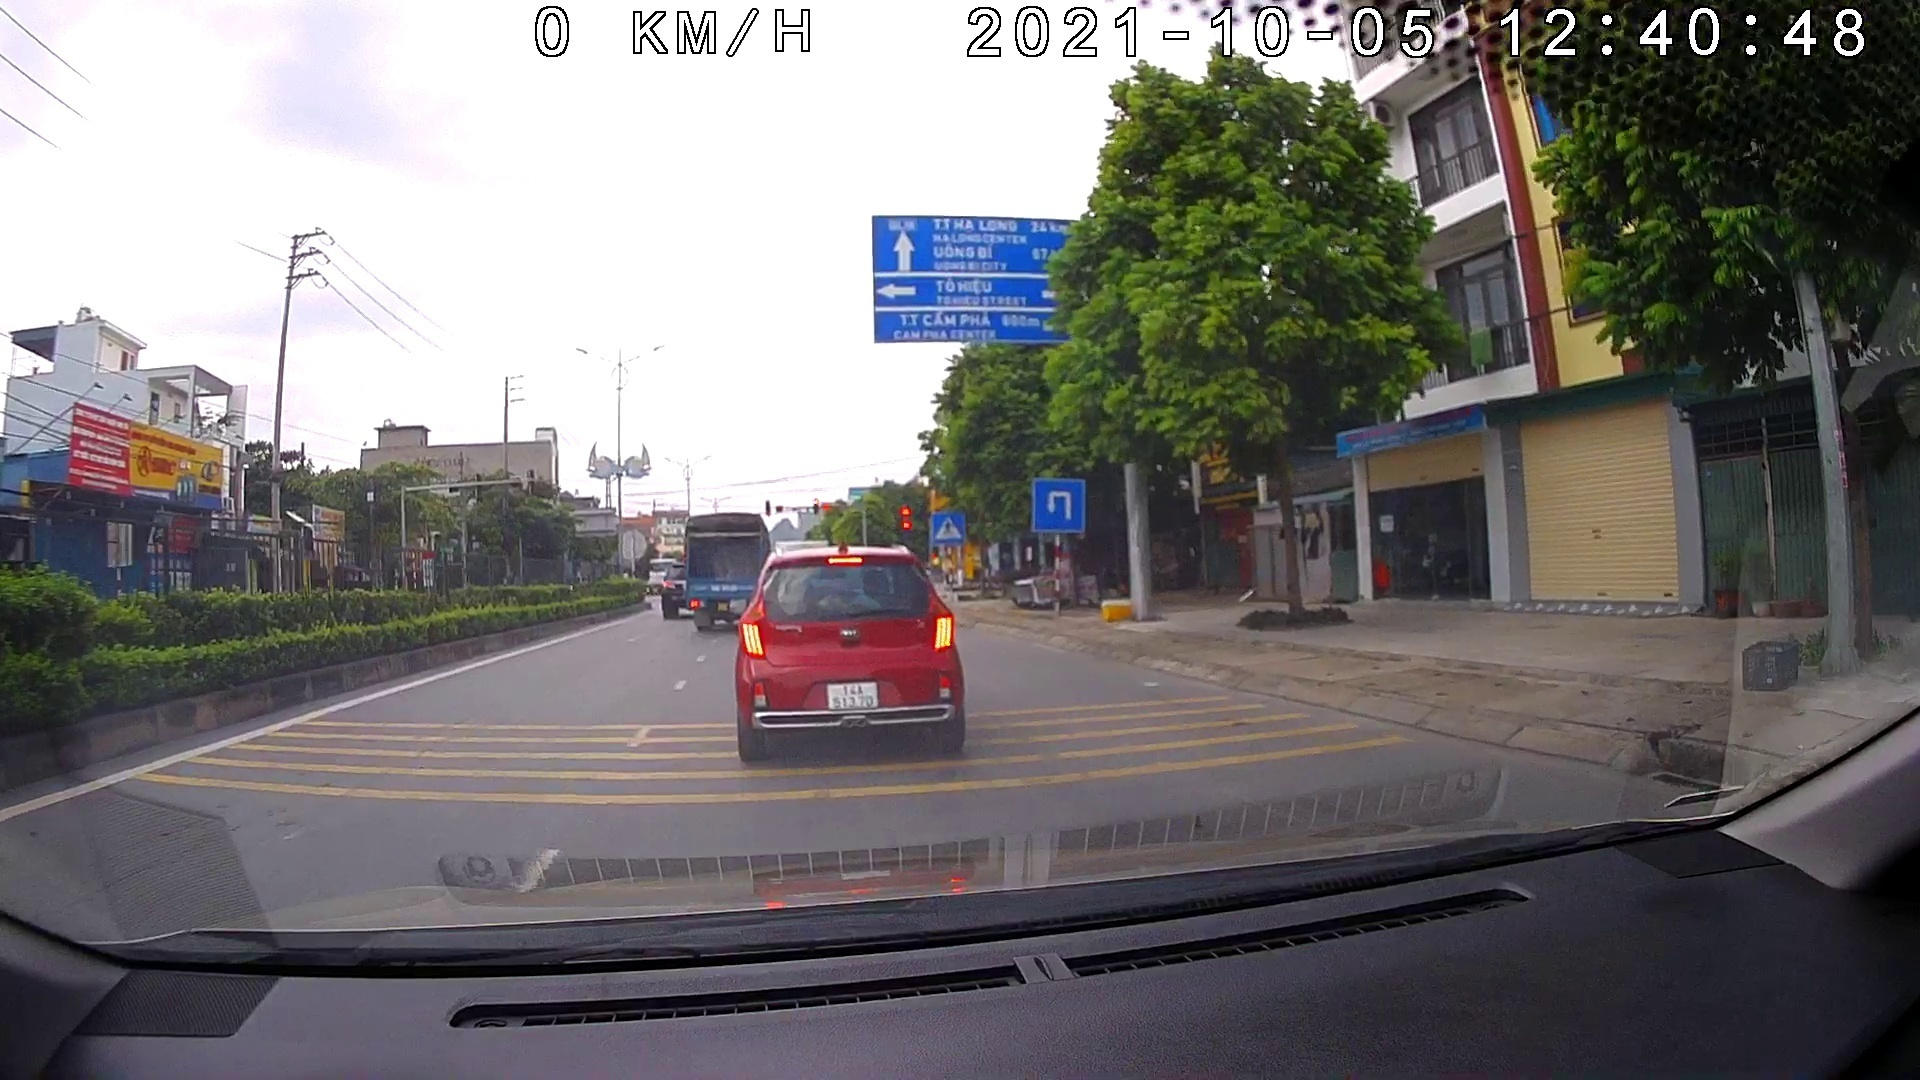Bien khac: (873, 212, 1089, 342), (1031, 476, 1087, 534)
Nguoi di bo: (931, 513, 964, 545)
